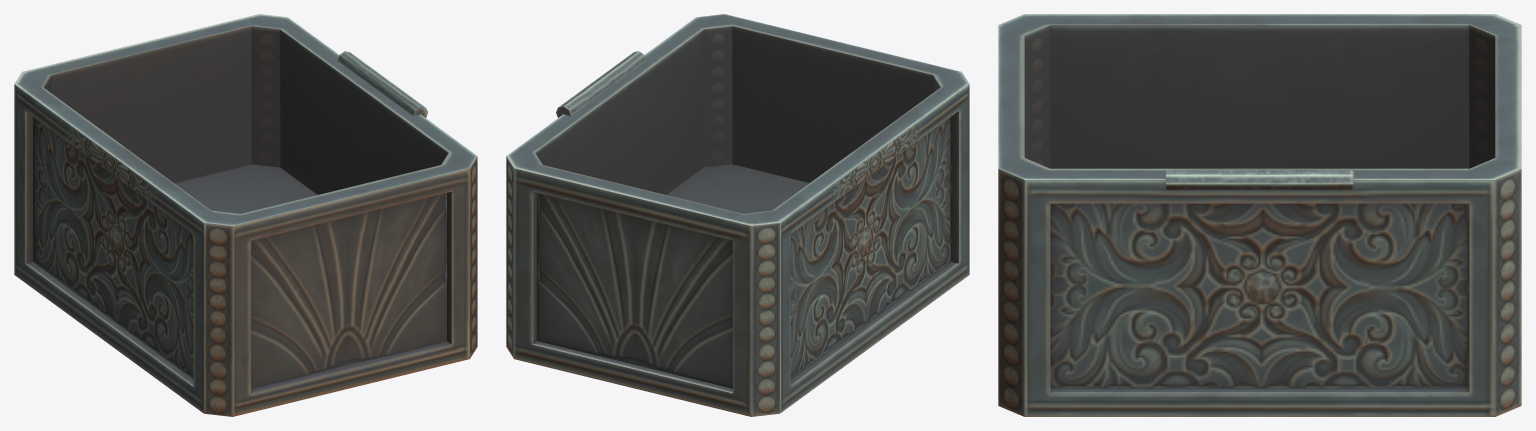
Rendered from SM_Jewelry_Box_A_Bronze.fbx.
3 views of the same model, side by side, from view 1: azimuth 30°, elevation 25°; view 2: azimuth 150°, elevation 25°; view 3: azimuth 270°, elevation 25° (orthographic). The views are drawn at different scales.
Parts seen in each view (by area): view 1: SM_Jewelry_Box_A_Bronze_LOD0; view 2: SM_Jewelry_Box_A_Bronze_LOD0; view 3: SM_Jewelry_Box_A_Bronze_LOD0.
Boxes of the visible parts, x1=… form: SM_Jewelry_Box_A_Bronze_LOD0: x1=14, y1=14, x2=477, y2=416; SM_Jewelry_Box_A_Bronze_LOD0: x1=506, y1=14, x2=969, y2=416; SM_Jewelry_Box_A_Bronze_LOD0: x1=998, y1=14, x2=1521, y2=416.
Bounding box in the file's own units: 15.41 × 20 × 10.41.
Materials: 1 (1 with a texture image).
